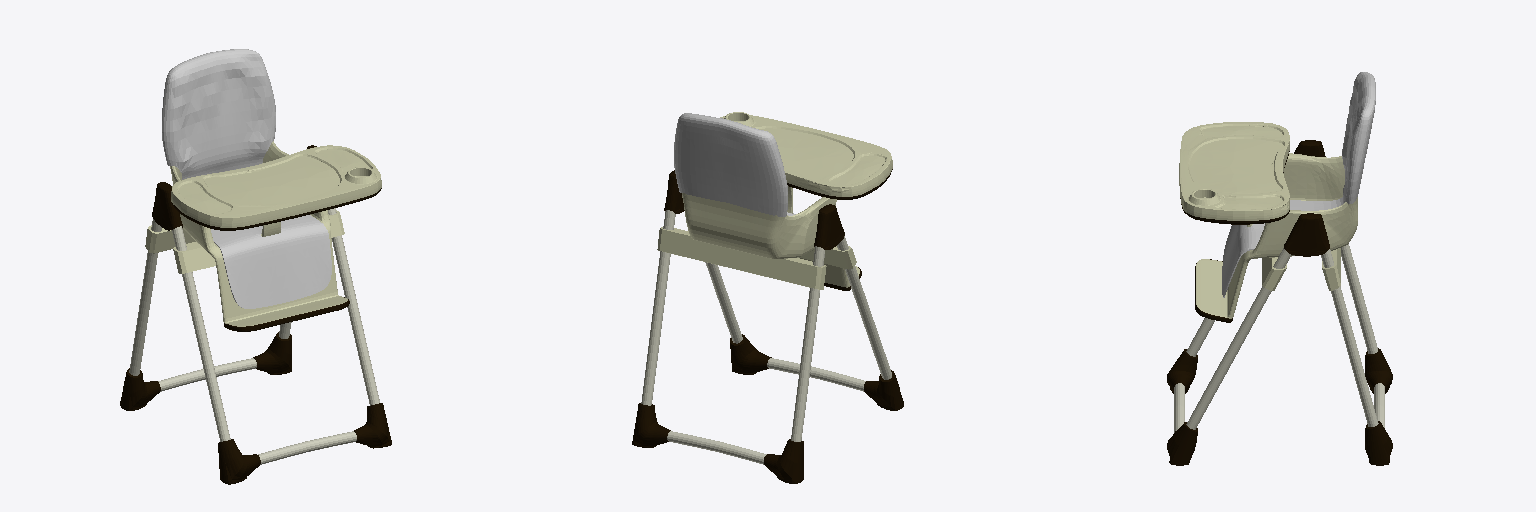
Rendered from baby_high_chair.obj.
3 renders of one model, left to right at view 1: azimuth 30°, elevation 25°; view 2: azimuth 150°, elevation 25°; view 3: azimuth 270°, elevation 25°, orthographic.
Visible parts, largest first — view 1: cover_Cube.002, tray_Cube, bars_Cube.001, plastic_base_Cube.003, foots_Cube.005, plastic_cover_Cube.004; view 2: bars_Cube.001, cover_Cube.002, tray_Cube, plastic_base_Cube.003, foots_Cube.005, plastic_cover_Cube.004; view 3: tray_Cube, plastic_base_Cube.003, bars_Cube.001, cover_Cube.002, foots_Cube.005, plastic_cover_Cube.004.
Boxes of the visible parts, <box> form: cover_Cube.002: <box>162,49,331,308</box>; tray_Cube: <box>171,145,381,230</box>; bars_Cube.001: <box>129,208,379,464</box>; plastic_base_Cube.003: <box>170,141,349,331</box>; foots_Cube.005: <box>120,332,391,484</box>; plastic_cover_Cube.004: <box>152,145,316,230</box>; bars_Cube.001: <box>641,210,891,464</box>; cover_Cube.002: <box>674,113,795,216</box>; tray_Cube: <box>720,112,892,199</box>; plastic_base_Cube.003: <box>682,186,861,290</box>; foots_Cube.005: <box>632,334,903,483</box>; plastic_cover_Cube.004: <box>664,170,844,249</box>; tray_Cube: <box>1179,122,1289,224</box>; plastic_base_Cube.003: <box>1195,153,1357,322</box>; bars_Cube.001: <box>1174,244,1384,432</box>; cover_Cube.002: <box>1222,72,1375,297</box>; foots_Cube.005: <box>1167,348,1392,465</box>; plastic_cover_Cube.004: <box>1284,140,1329,256</box>.
Bounding box in the file's own units: 5.94 × 10.37 × 6.26.